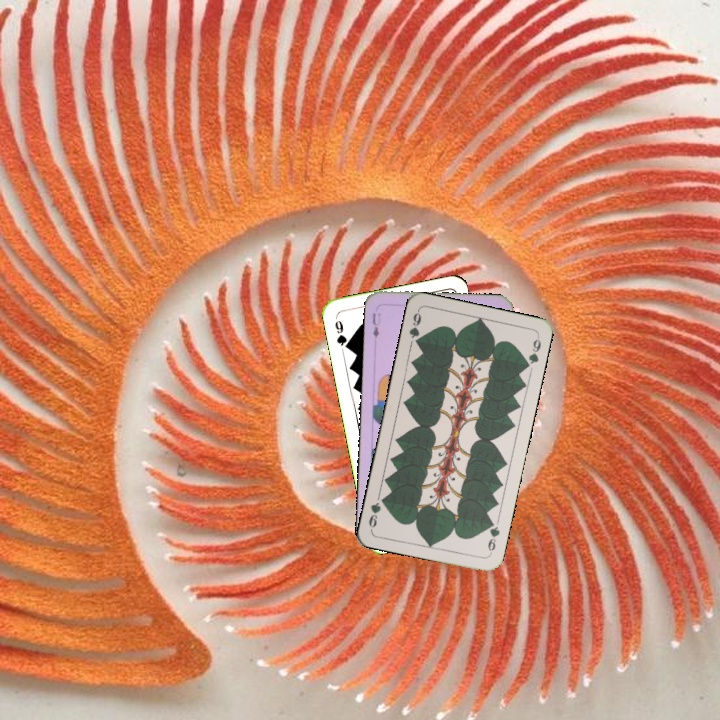EU: (368, 309, 383, 341)
G9: (405, 307, 424, 348), (331, 316, 352, 352), (484, 515, 502, 557)
